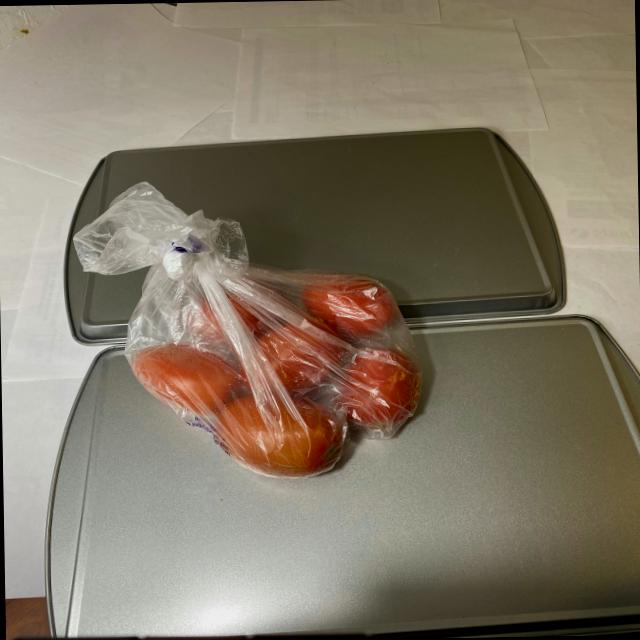tomato: (120, 264, 420, 482)
